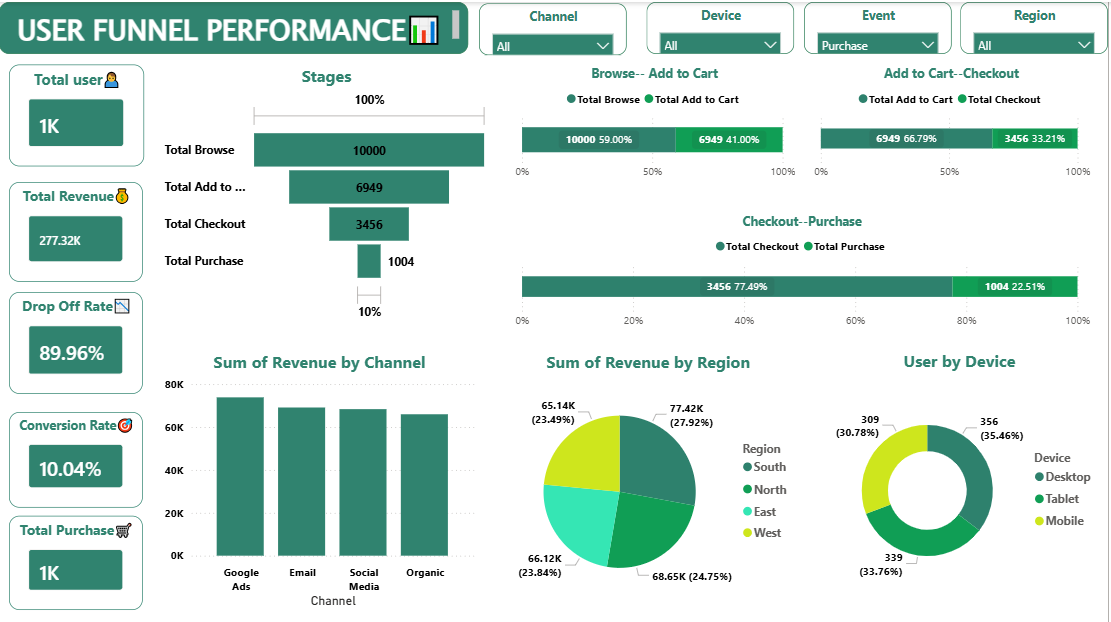

This screenshot's page, from the dashboard's own definition file:
{"tool":"powerbi","page":{"name":"Page 1","canvas":[1280,720],"ordinal":0},"visuals":[{"type":"textbox","box":[0,0,541.5,60.3],"z":0},{"type":"cardVisual","title":"Total user🙍♂️","fields":{"Data":["Funnel_Analysis.Total User"]},"box":[11.6,72.7,155.6,117.8],"z":1000},{"type":"slicer","title":"Region","fields":{"Values":["Funnel_Analysis.Region"]},"box":[1109.8,0,170.2,59.6],"z":2000},{"type":"slicer","title":"Event","fields":{"Values":["Funnel_Analysis.Event"]},"box":[929.5,0,170.2,59.6],"z":3000},{"type":"slicer","title":"Device","fields":{"Values":["Funnel_Analysis.Device"]},"box":[747.6,0,170.2,59.6],"z":4000},{"type":"slicer","title":"Channel","fields":{"Values":["Funnel_Analysis.Channel"]},"box":[554.2,1.5,170.2,59.6],"z":5000},{"type":"cardVisual","title":"Total Revenue💰","fields":{"Data":["Funnel_Analysis.Total Revenue"]},"box":[11.6,208,154.2,114.9],"z":6000},{"type":"cardVisual","title":"Drop Off Rate📉","fields":{"Data":["Funnel_Analysis.Drop Off Rate"]},"box":[11.6,334.5,154.2,117.8],"z":7000},{"type":"cardVisual","title":"Conversion Rate🎯","fields":{"Data":["Funnel_Analysis.Conversion Rate"]},"box":[11.6,472.7,154.2,110.5],"z":8000},{"type":"funnel","title":"Stages","fields":{"Y":["Funnel_Analysis.Browse Count","Funnel_Analysis.Add to Cart","Funnel_Analysis.Checkout","Funnel_Analysis.Purchase"]},"box":[186.2,72.7,384,301.1],"z":9000},{"type":"hundredPercentStackedBarChart","title":" Browse-- Add to Cart","fields":{"Y":["Funnel_Analysis.Total Browse","Funnel_Analysis.Total Add to Cart"]},"box":[584.7,72.7,344.7,157.1],"z":10000},{"type":"hundredPercentStackedBarChart","title":" Add to Cart--Checkout","fields":{"Y":["Funnel_Analysis.Total Add to Cart","Funnel_Analysis.Total Checkout"]},"box":[929.1,72.1,340.5,157.3],"z":11000},{"type":"hundredPercentStackedBarChart","title":"Checkout--Purchase","fields":{"Y":["Funnel_Analysis.Total Checkout","Funnel_Analysis.Total Purchase"]},"box":[584.7,242.9,685.1,158.5],"z":12000},{"type":"pieChart","title":"Sum of Revenue by Region","fields":{"Y":["Funnel_Analysis.Total Revenue"],"Category":["Funnel_Analysis.Region"]},"box":[570.2,402.9,359.3,301.1],"z":13000},{"type":"columnChart","title":"Sum of Revenue by Channel","fields":{"Y":["Funnel_Analysis.Total Revenue"],"Category":["Funnel_Analysis.Channel"]},"box":[186.1,402.5,367.9,301.5],"z":14000},{"type":"donutChart","title":"User by Device","fields":{"Category":["Funnel_Analysis.Device"],"Y":["Funnel_Analysis.Total User"]},"box":[944,401.5,330.2,301.1],"z":15000},{"type":"cardVisual","title":"Total Purchase🛒","fields":{"Data":["Funnel_Analysis.Total Purchase"]},"box":[11.6,593.5,154.2,109.1],"z":16000}]}

Visuals, with their boxes in screenshot pixels (x1, y1, x2, y2), scaled from the page's 1280x720 canvas onto the 1111x622 screenshot:
textbox: select_region(0, 0, 470, 52)
"Total user🙍♂️" cardVisual: select_region(10, 63, 145, 165)
"Region" slicer: select_region(963, 0, 1110, 51)
"Event" slicer: select_region(807, 0, 955, 51)
"Device" slicer: select_region(649, 0, 797, 51)
"Channel" slicer: select_region(481, 1, 629, 53)
"Total Revenue💰" cardVisual: select_region(10, 180, 144, 279)
"Drop Off Rate📉" cardVisual: select_region(10, 289, 144, 391)
"Conversion Rate🎯" cardVisual: select_region(10, 408, 144, 504)
"Stages" funnel: select_region(162, 63, 495, 323)
" Browse-- Add to Cart" hundredPercentStackedBarChart: select_region(508, 63, 807, 199)
" Add to Cart--Checkout" hundredPercentStackedBarChart: select_region(806, 62, 1102, 198)
"Checkout--Purchase" hundredPercentStackedBarChart: select_region(508, 210, 1102, 347)
"Sum of Revenue by Region" pieChart: select_region(495, 348, 807, 608)
"Sum of Revenue by Channel" columnChart: select_region(162, 348, 481, 608)
"User by Device" donutChart: select_region(819, 347, 1106, 607)
"Total Purchase🛒" cardVisual: select_region(10, 513, 144, 607)
